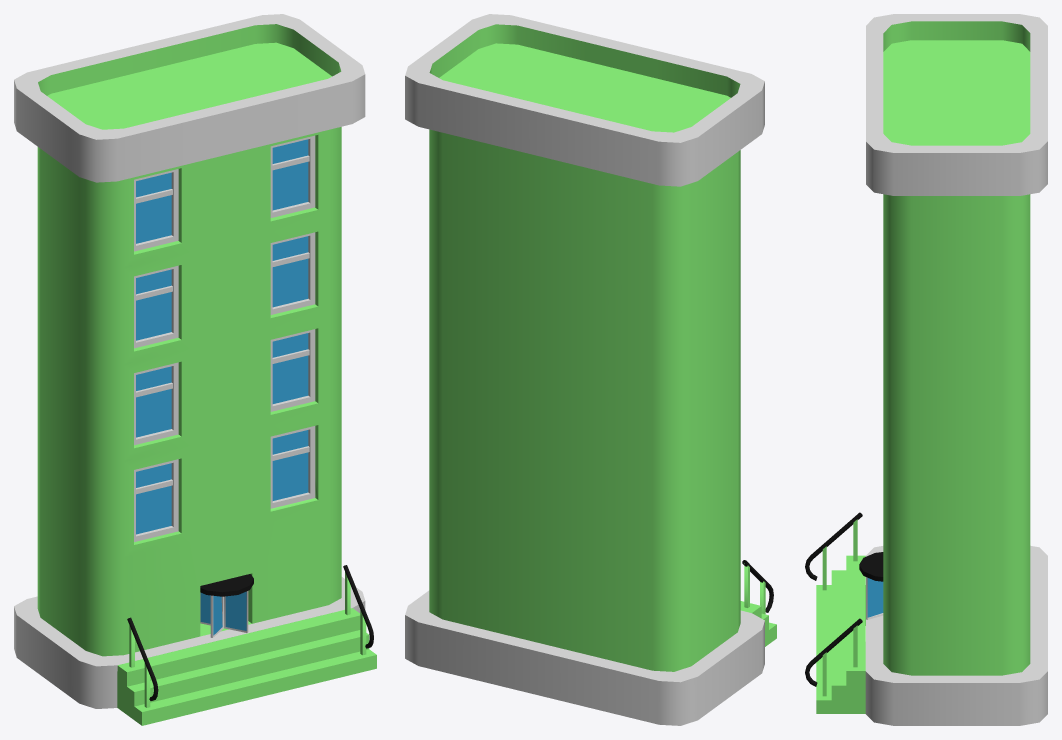
File: House_4.fbx
3 renders of one model, left to right at view 1: azimuth 30°, elevation 25°; view 2: azimuth 150°, elevation 25°; view 3: azimuth 270°, elevation 25°, orthographic. The views are drawn at different scales.
Parts seen in each view (by area): view 1: Cube.006; view 2: Cube.006; view 3: Cube.006.
Boxes of the visible parts, bbox=[...] form: Cube.006: bbox=[14, 14, 376, 725]; Cube.006: bbox=[405, 14, 776, 725]; Cube.006: bbox=[805, 14, 1047, 725].
Bounding box in the file's own units: 224 × 430 × 165.
